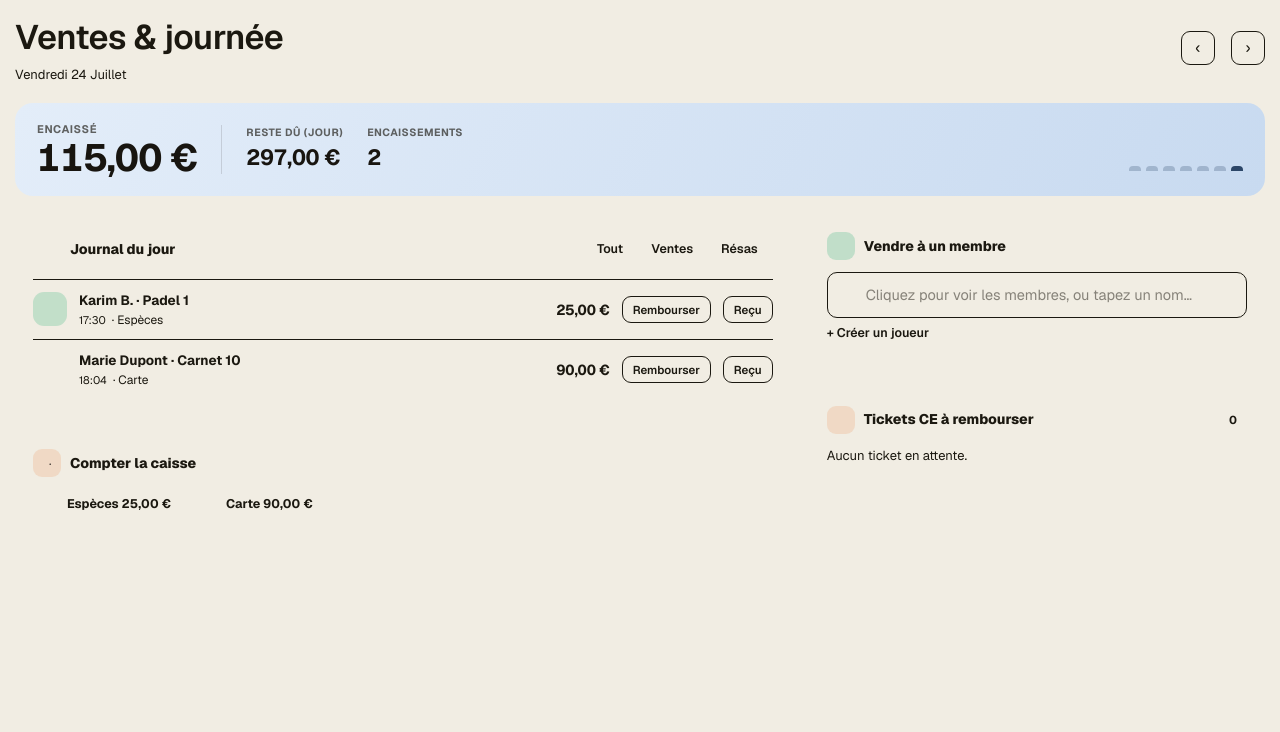
Test: filtre « Ventes » masque les paiements liés à une résa
This screenshot has width=1280, height=732.
Expected: the text "17:30" is shown, [79,312,106,328]
Click the button "Ventes": {"x": 672, "y": 249} [639,235,705,264]
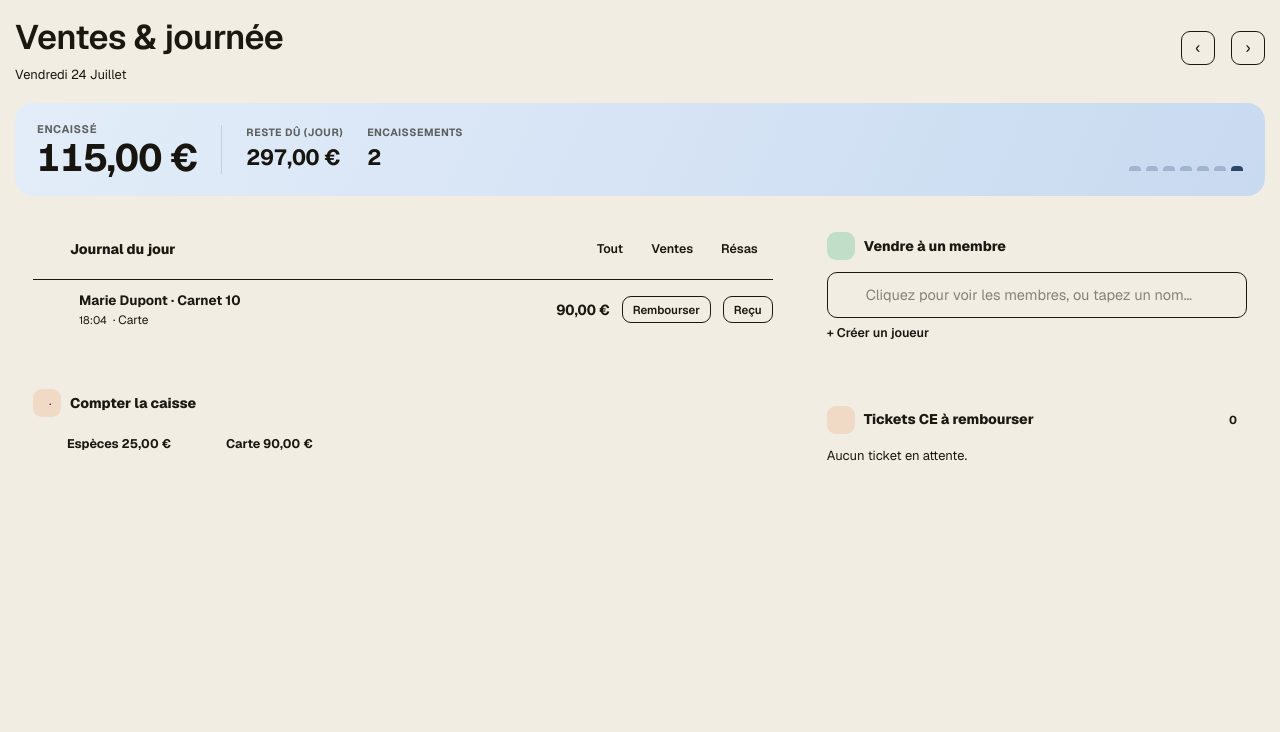
Expected: the text "Marie Dupont · Carnet 10" is shown, [79,291,240,309]
Expected: the text "Padel 1" is gone
